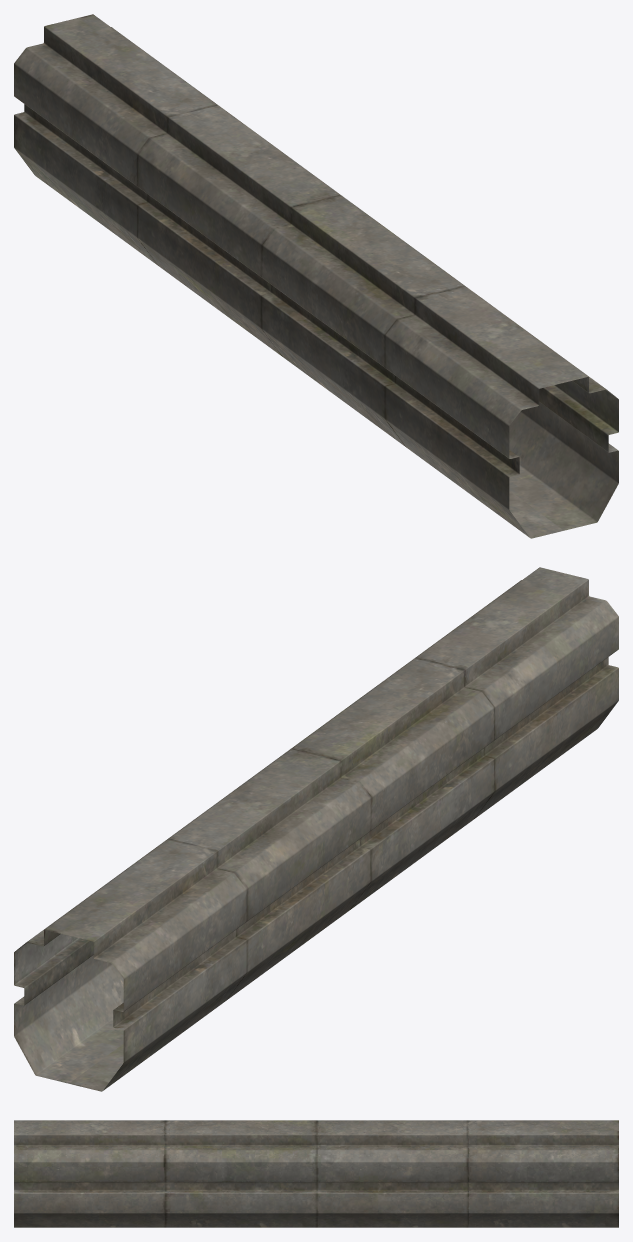
Rendered from Railing_base08.fbx.
3 renders of one model, top to bottom at view 1: azimuth 30°, elevation 25°; view 2: azimuth 150°, elevation 25°; view 3: azimuth 270°, elevation 25°, orthographic. The views are drawn at different scales.
Parts seen in each view (by area): view 1: Railing_base08; view 2: Railing_base08; view 3: Railing_base08.
Boxes of the visible parts, x1,y1,x2,y2 form: Railing_base08: [14, 14, 618, 538]; Railing_base08: [14, 567, 618, 1091]; Railing_base08: [14, 1120, 618, 1227].
Bounding box in the file's own units: 31.96 × 41.2 × 250.
